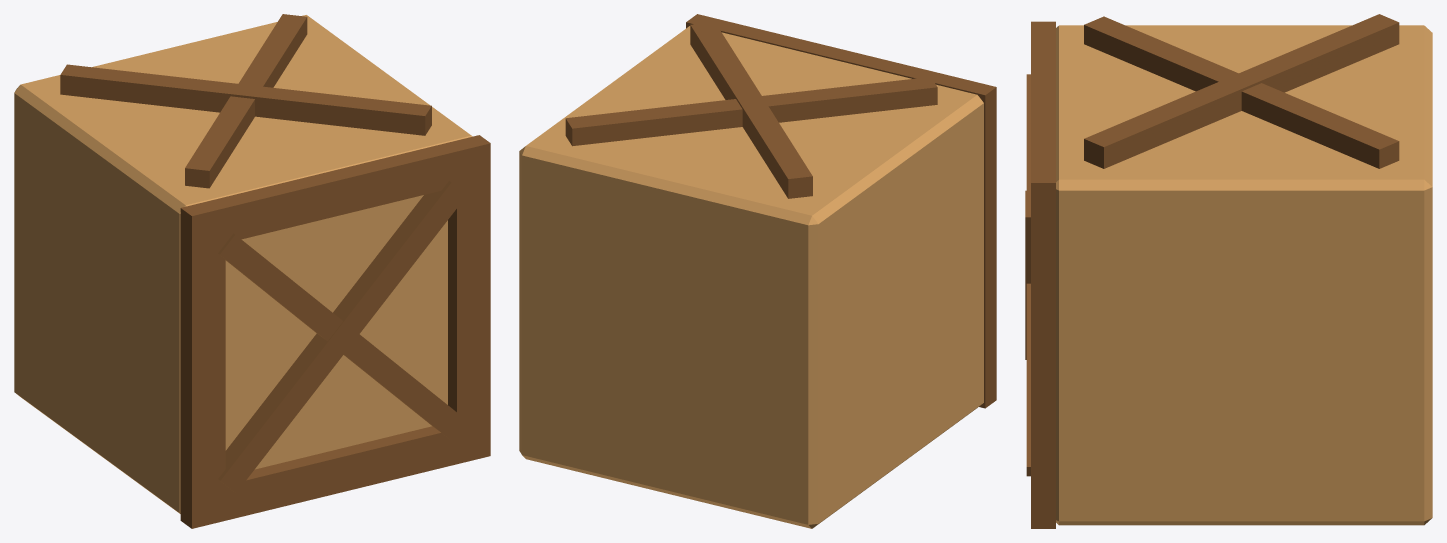
The model's file is PF_WoodCrate.fbx.
3 renders of one model, left to right at view 1: azimuth 30°, elevation 25°; view 2: azimuth 150°, elevation 25°; view 3: azimuth 270°, elevation 25°, orthographic. The views are drawn at different scales.
Visible parts, largest first — view 1: WoodBody, WoodFrame; view 2: WoodBody, WoodFrame; view 3: WoodBody, WoodFrame.
Boxes of the visible parts, x1,y1,x2,y2 form: WoodBody: (14,15,472,513); WoodFrame: (60,14,490,528); WoodBody: (519,26,983,528); WoodFrame: (565,14,996,408); WoodBody: (1056,25,1432,525); WoodFrame: (1025,14,1399,528).
Bounding box in the file's own units: 1.15 × 1.22 × 1.23.
